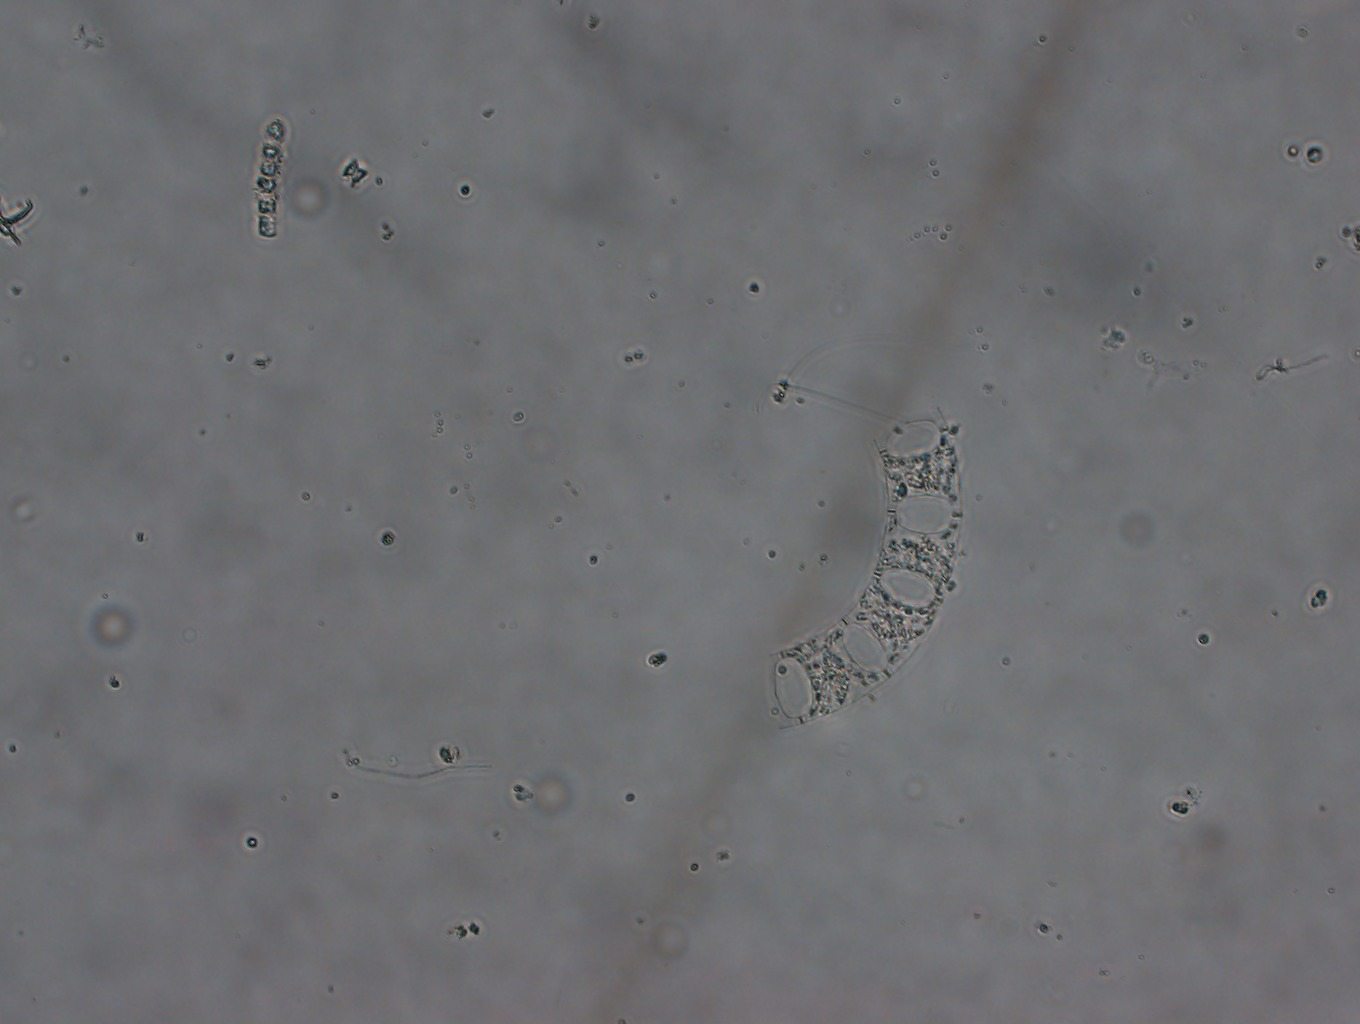eucampia: (740, 406, 970, 733)
skeletonema: (237, 106, 298, 245)
